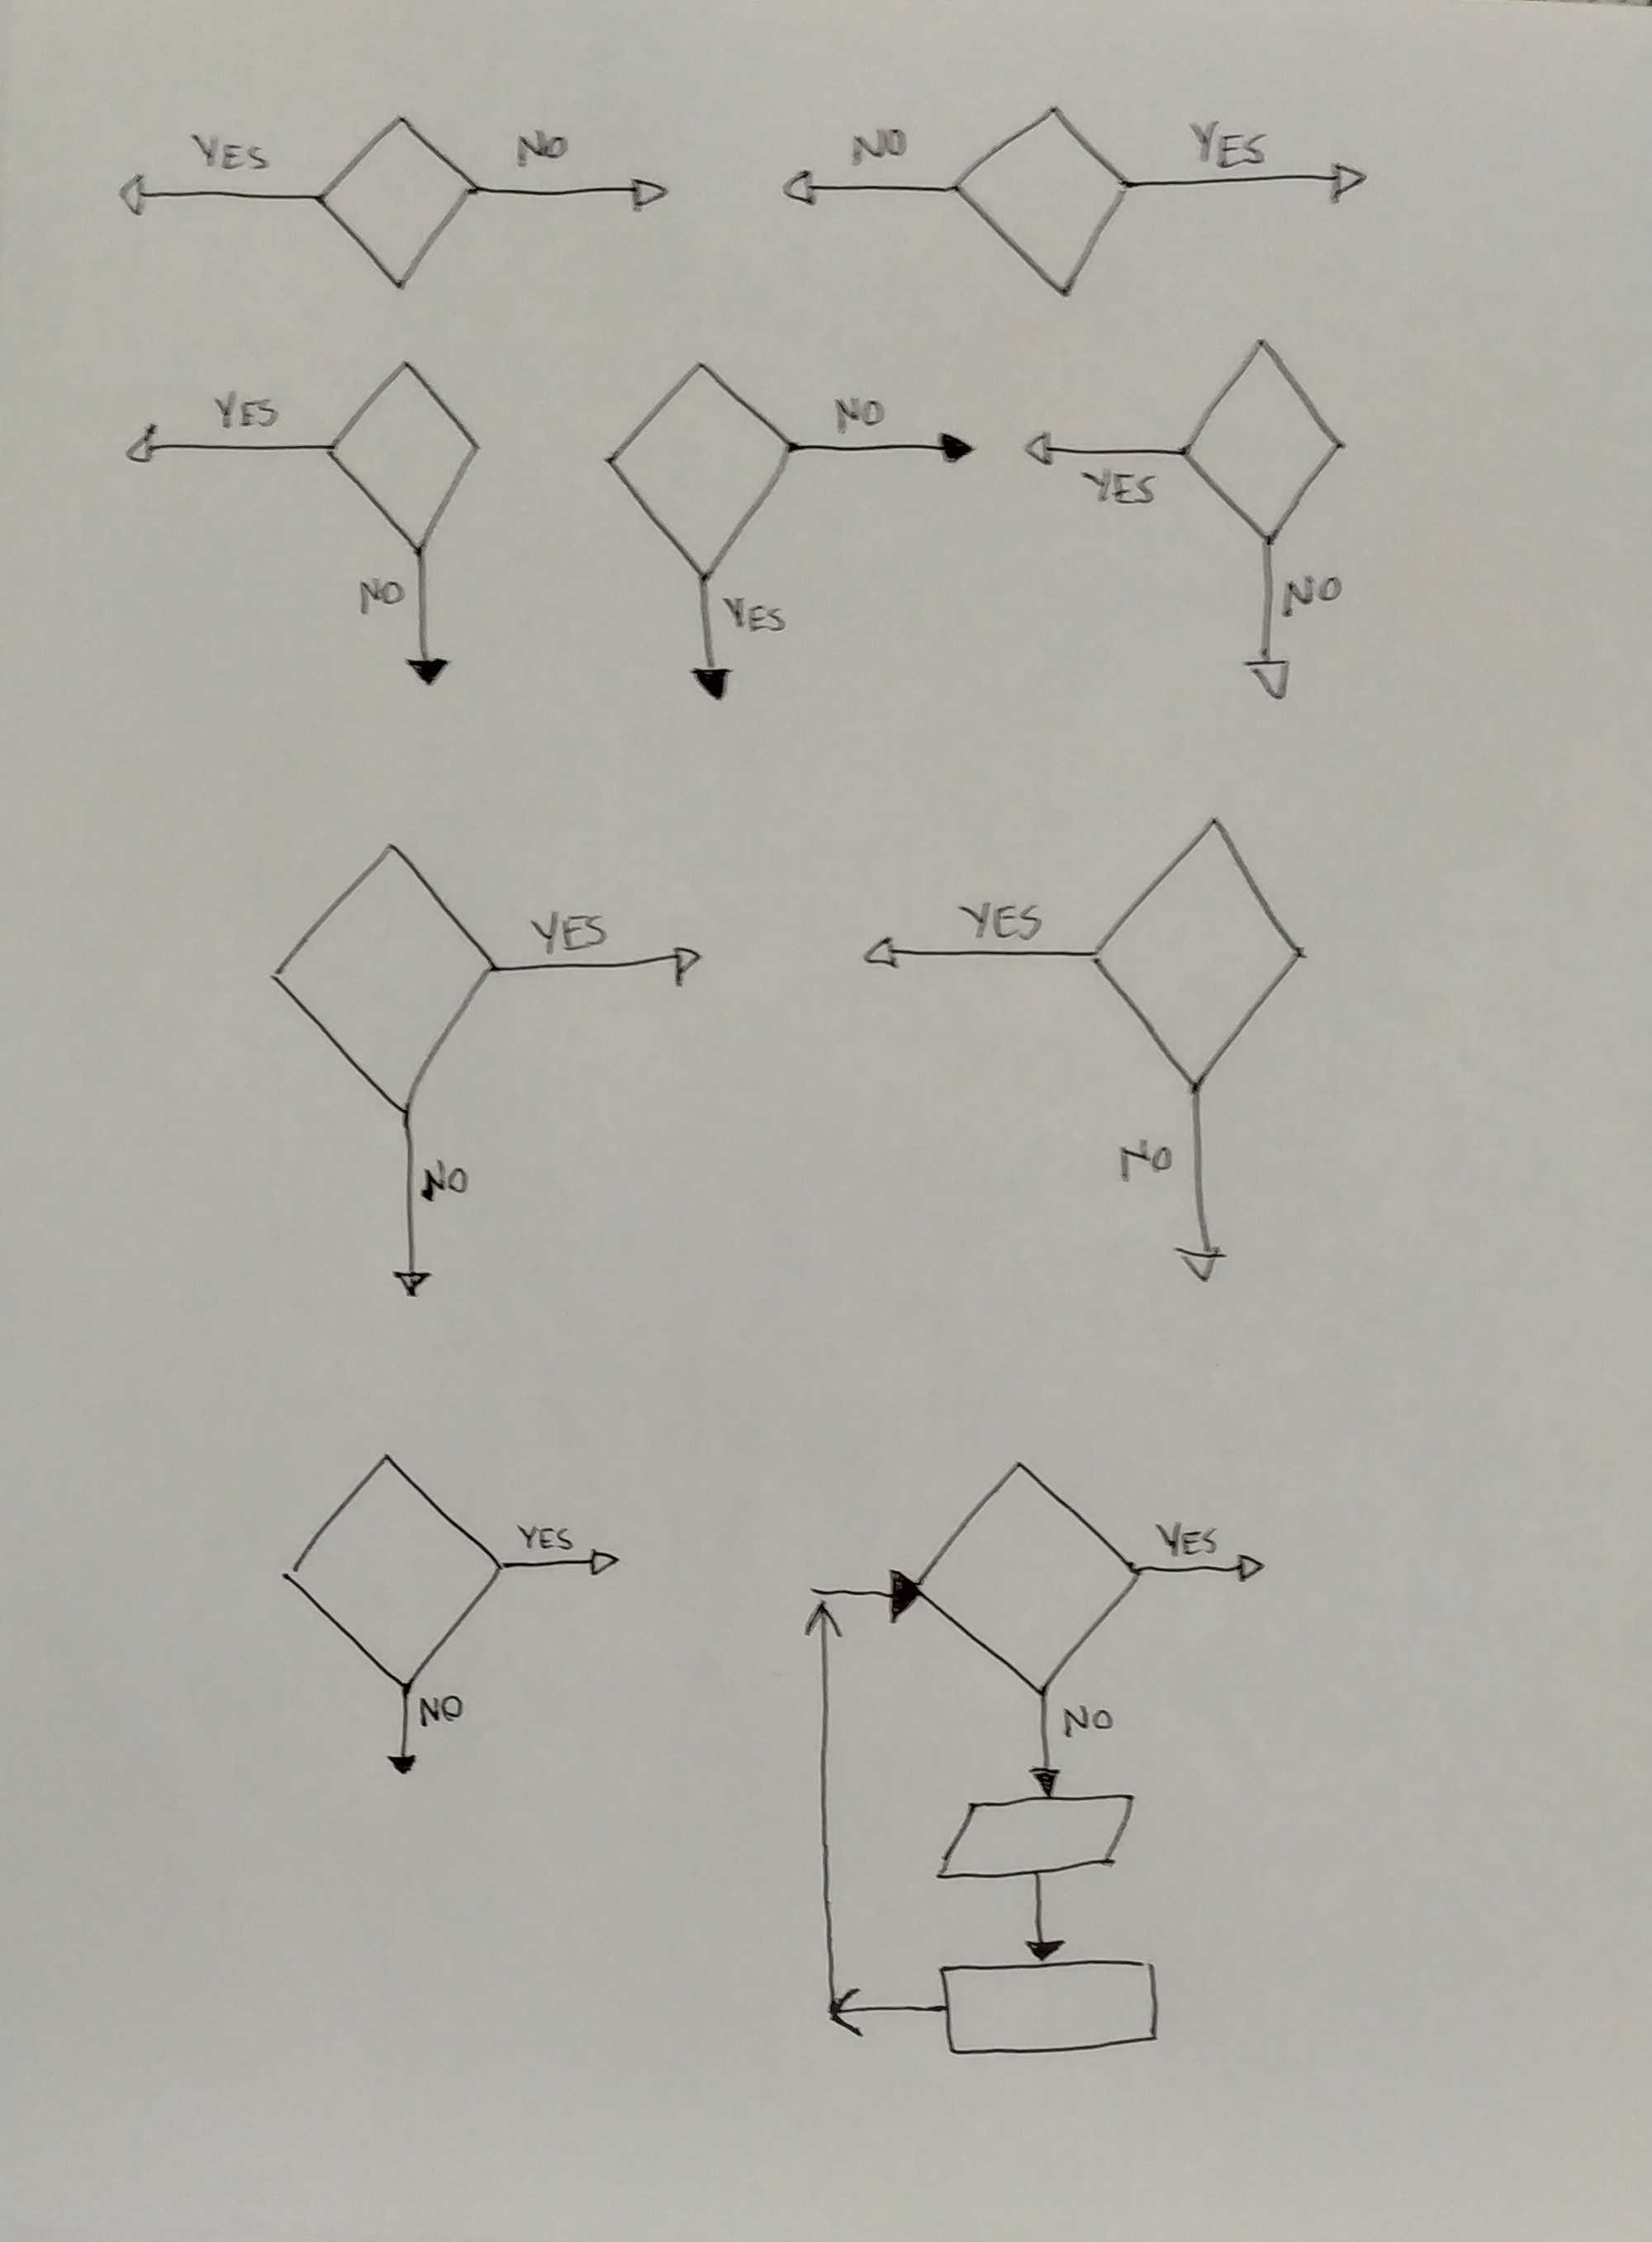arrow_line_down: (1168, 1086, 1236, 1286), (383, 1109, 447, 1304), (1239, 536, 1307, 707), (393, 547, 467, 695), (677, 574, 747, 710), (379, 1685, 428, 1782), (1025, 1687, 1067, 1800), (1020, 1871, 1067, 1967)
arrow_line_left: (117, 414, 332, 473), (855, 928, 1097, 978), (113, 165, 324, 219), (778, 162, 959, 218), (1020, 425, 1187, 477)
arrow_line_right: (1125, 151, 1375, 209), (472, 158, 672, 223), (496, 935, 707, 996), (792, 416, 980, 477), (802, 1563, 919, 1629), (1137, 1547, 1273, 1593), (498, 1541, 625, 1582)
arrow_line_up: (801, 1596, 855, 2019)
decision: (263, 836, 505, 1121), (1088, 808, 1311, 1098), (277, 1443, 505, 1692), (916, 1453, 1144, 1695), (594, 352, 801, 585), (1180, 332, 1353, 547), (954, 101, 1133, 306), (324, 353, 493, 560), (315, 110, 484, 299)
process: (931, 1955, 1172, 2061)
scan: (928, 1791, 1149, 1887)
